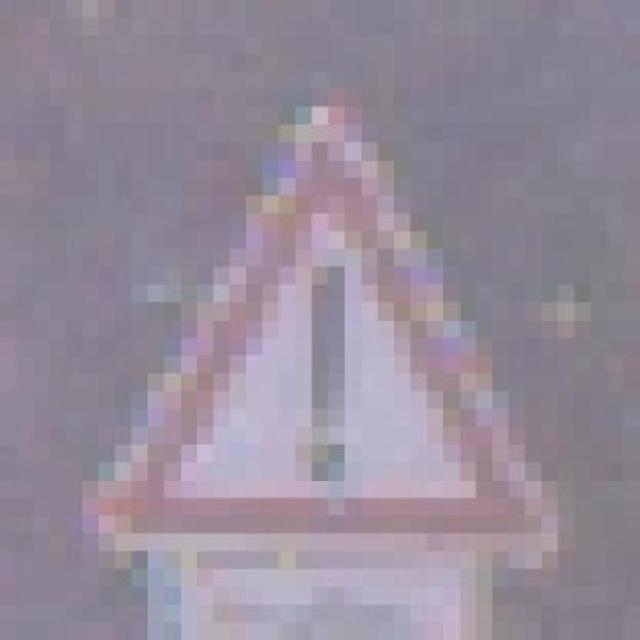Attention Please-: (66, 53, 574, 569)
